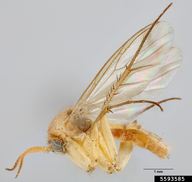Fruit fly: (30, 35, 169, 171)
